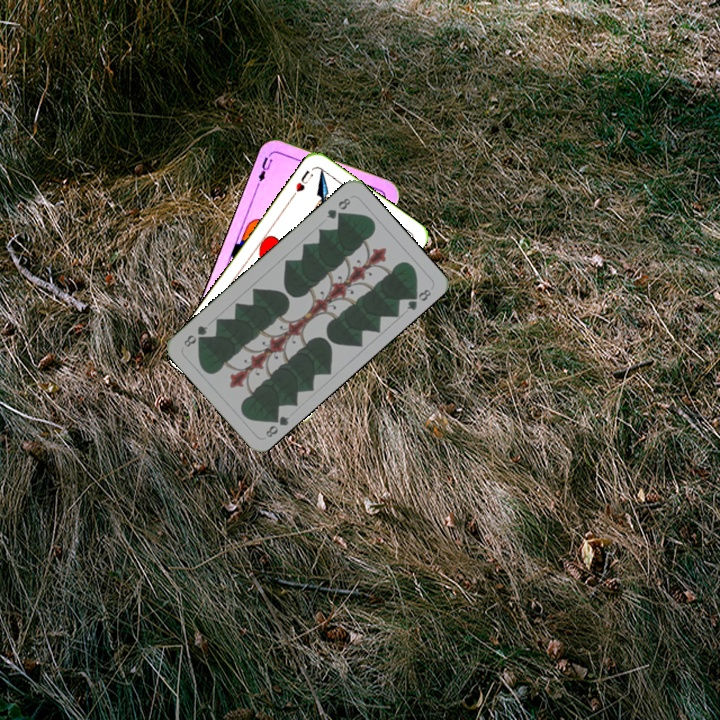EU: (254, 153, 275, 184)
G8: (261, 409, 292, 440), (322, 194, 353, 222)
HU: (288, 166, 316, 200)
